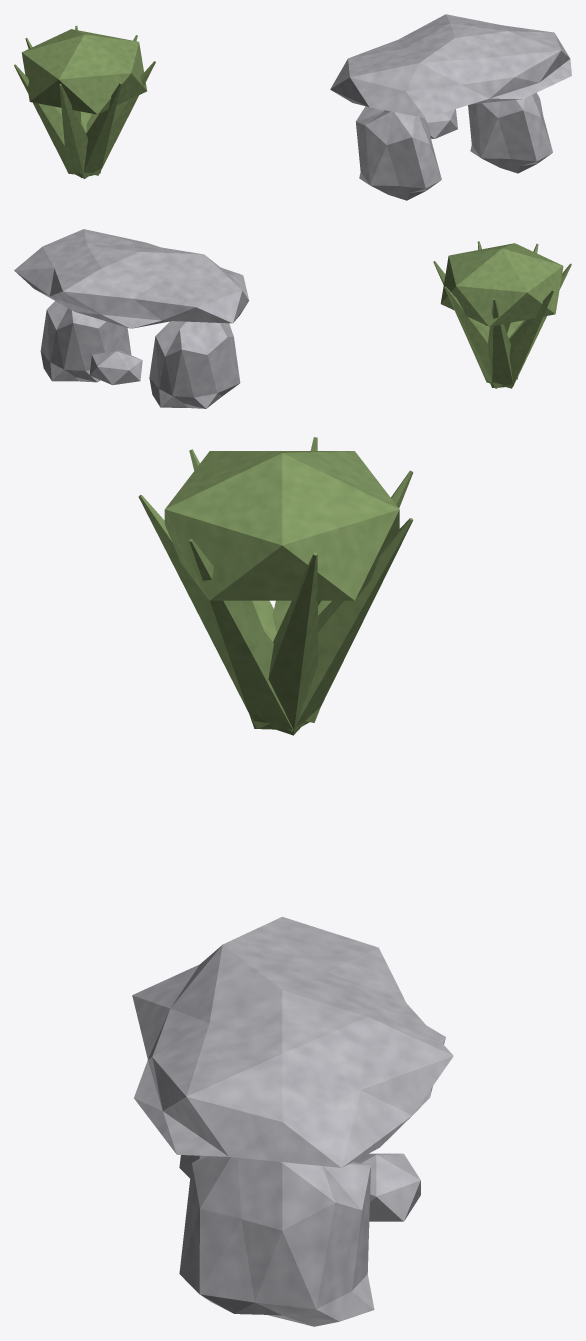
The model's file is cover.glb.
The picture shows the model from 3 angles, top to bottom: view 1: azimuth 30°, elevation 25°; view 2: azimuth 150°, elevation 25°; view 3: azimuth 270°, elevation 25°; orthographic projection. The views are drawn at different scales.
Parts seen in each view (by area): view 1: cover_2, cover_1; view 2: cover_2, cover_1; view 3: cover_2, cover_1.
Part boxes in pixels (x1,y1,x2,y2): cover_2: [330, 14, 571, 200]; cover_1: [14, 25, 155, 178]; cover_2: [14, 229, 249, 408]; cover_1: [433, 241, 571, 388]; cover_2: [132, 916, 453, 1326]; cover_1: [138, 437, 413, 735].
Bounding box in the file's own units: 11.78 × 4.78 × 3.07.
2 materials, 2 textured.
